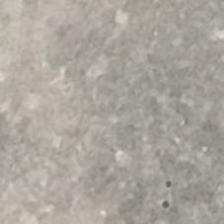Non_Crack: (25, 18, 156, 206)
